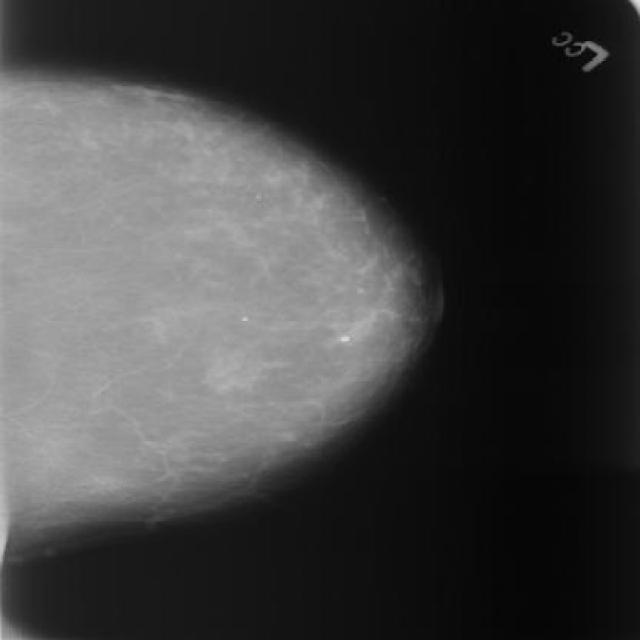tumor: (101, 108, 412, 404)
